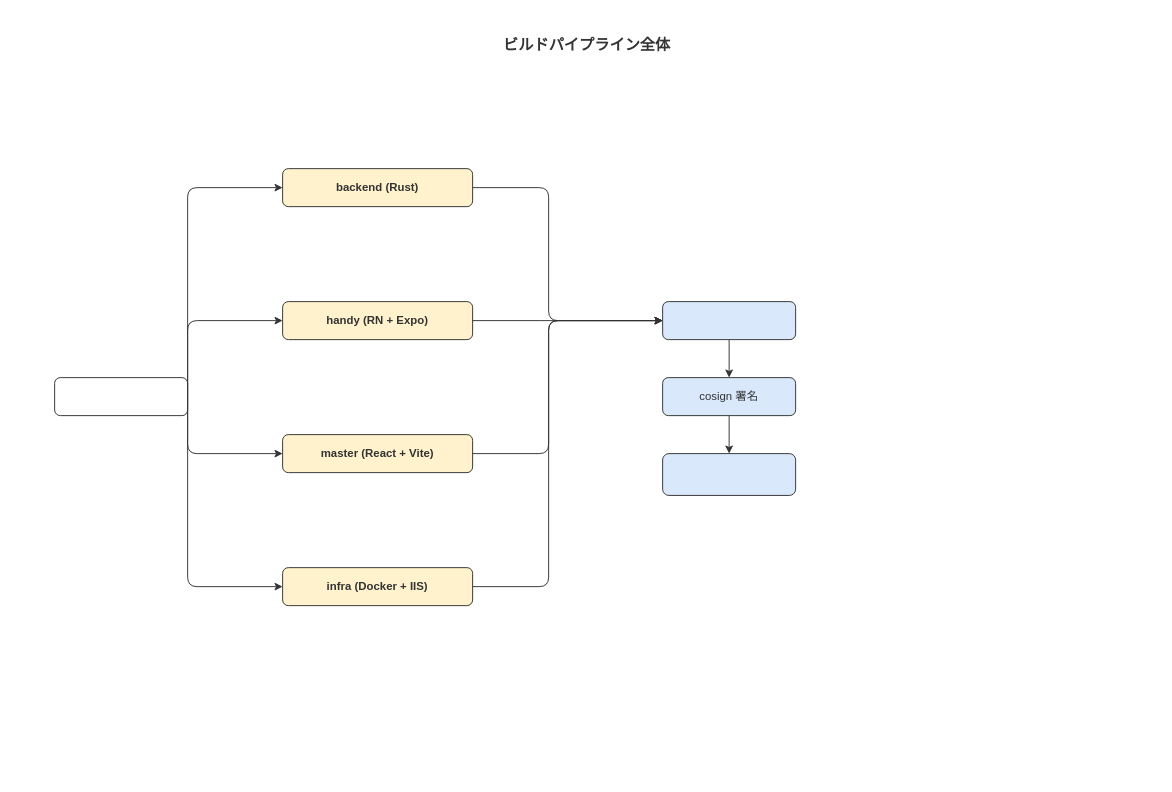
This 1172x792 diagram has some shape labels left out. The centre of each missing label's shape, as x and y in pixels:
artifacts push to ghcr.io: pixel 729 474
PR / main push: pixel 121 396
SBOM 生成: pixel 729 320
